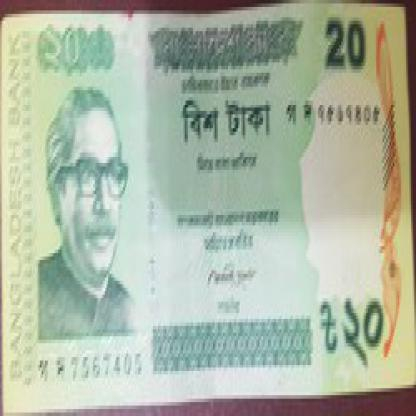Twenty: (36, 21, 122, 80), (320, 291, 388, 361), (170, 97, 276, 139), (313, 14, 369, 83)
